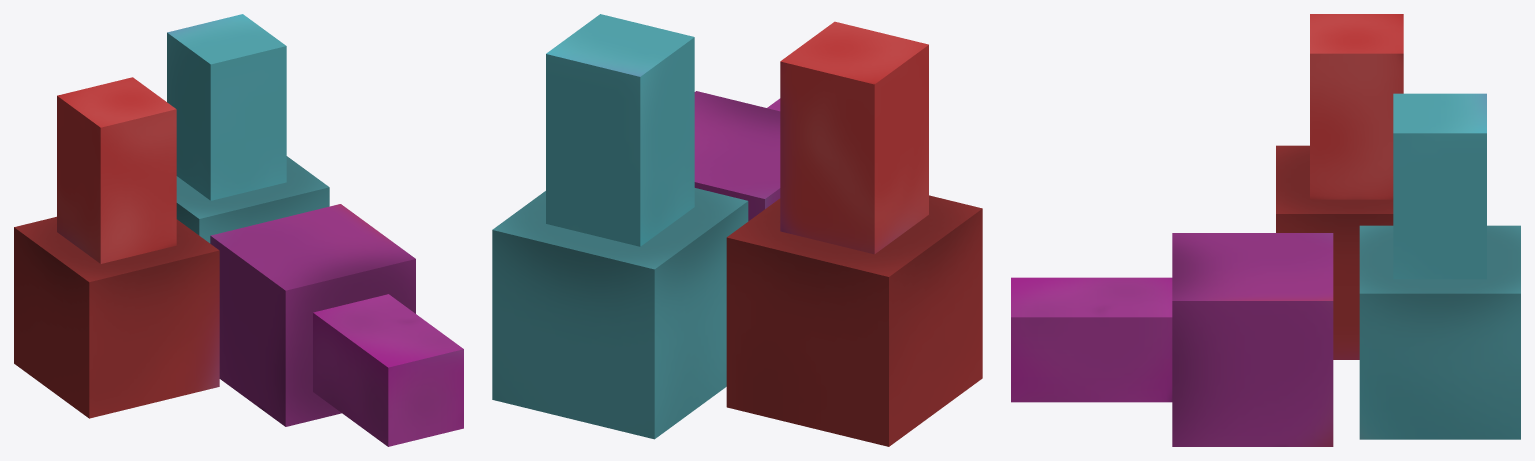
The model's file is Vernis.fbx.
3 views of the same model, side by side, from view 1: azimuth 30°, elevation 25°; view 2: azimuth 150°, elevation 25°; view 3: azimuth 270°, elevation 25° (orthographic). The views are drawn at different scales.
Visible parts, largest first — view 1: Vernis003, Vernis002, Vernis01; view 2: Vernis003, Vernis01, Vernis002; view 3: Vernis002, Vernis01, Vernis003.
Part boxes in pixels (x1=…): Vernis003: x1=14, y1=77, x2=219, y2=418; Vernis002: x1=210, y1=204, x2=463, y2=446; Vernis01: x1=167, y1=14, x2=329, y2=243; Vernis003: x1=726, y1=21, x2=982, y2=446; Vernis01: x1=492, y1=14, x2=748, y2=439; Vernis002: x1=694, y1=91, x2=780, y2=221; Vernis002: x1=1011, y1=233, x2=1333, y2=446; Vernis01: x1=1359, y1=93, x2=1520, y2=439; Vernis003: x1=1276, y1=14, x2=1403, y2=359.
Size of the model in its own units: 21.44 by 20.66 by 31.63.
1 material, 1 textured.
